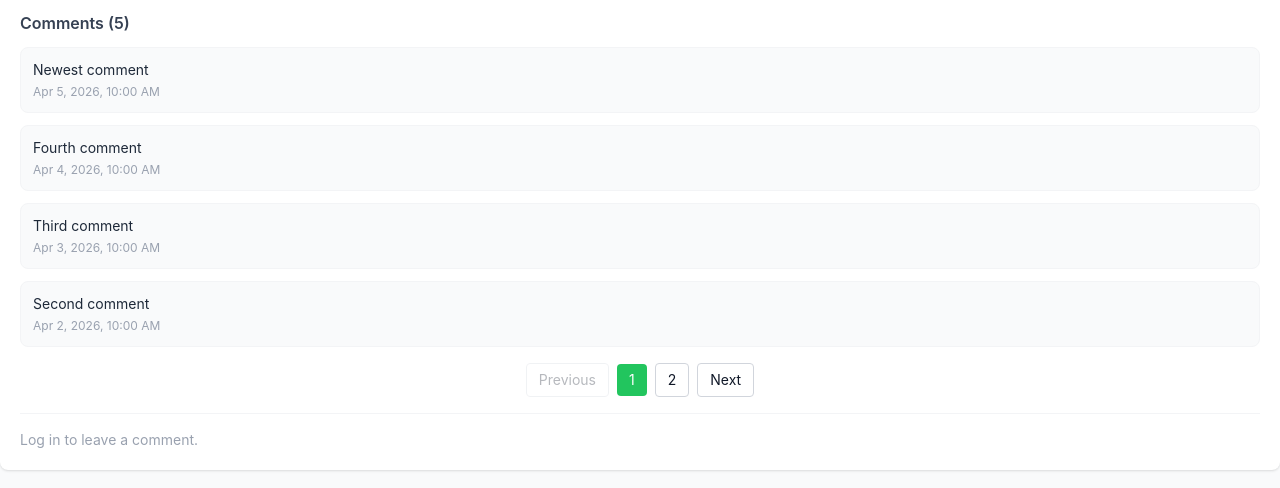
it: ReportComments › navigates to page 2 to see older comments
Check: the text "Newest comment" is shown, box [33,61,149,78]
Click the button "2": point(672, 380) [655,363,689,397]
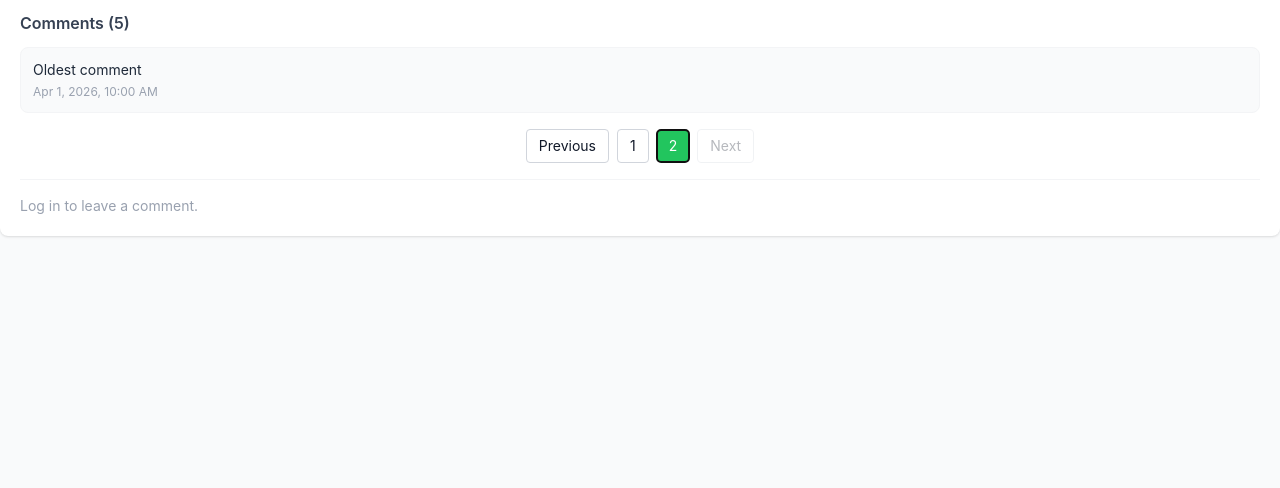
Check: the text "Oldest comment" is shown, box [33,61,142,78]
Check: the text "Newest comment" is gone
